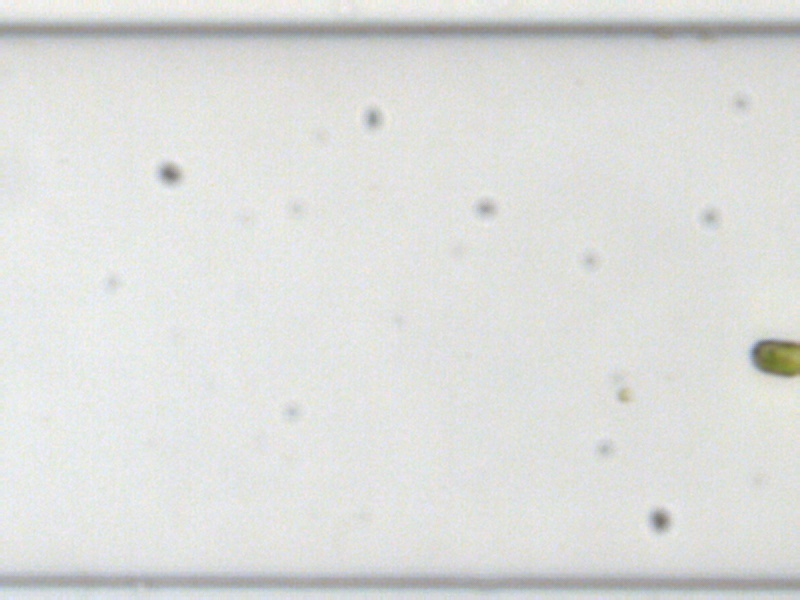Chlorella: (614, 383, 631, 405)
Haematococcus: (752, 336, 799, 378)
